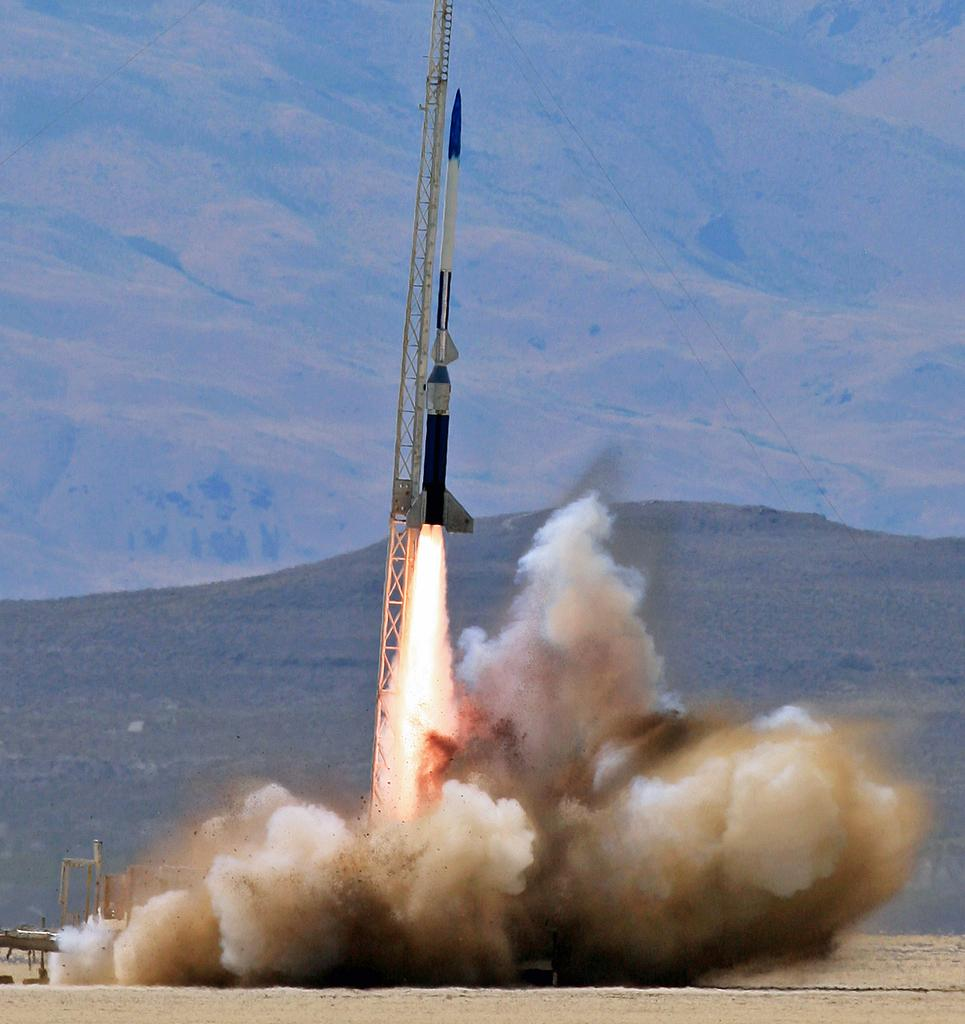Missile: (401, 84, 480, 532)
